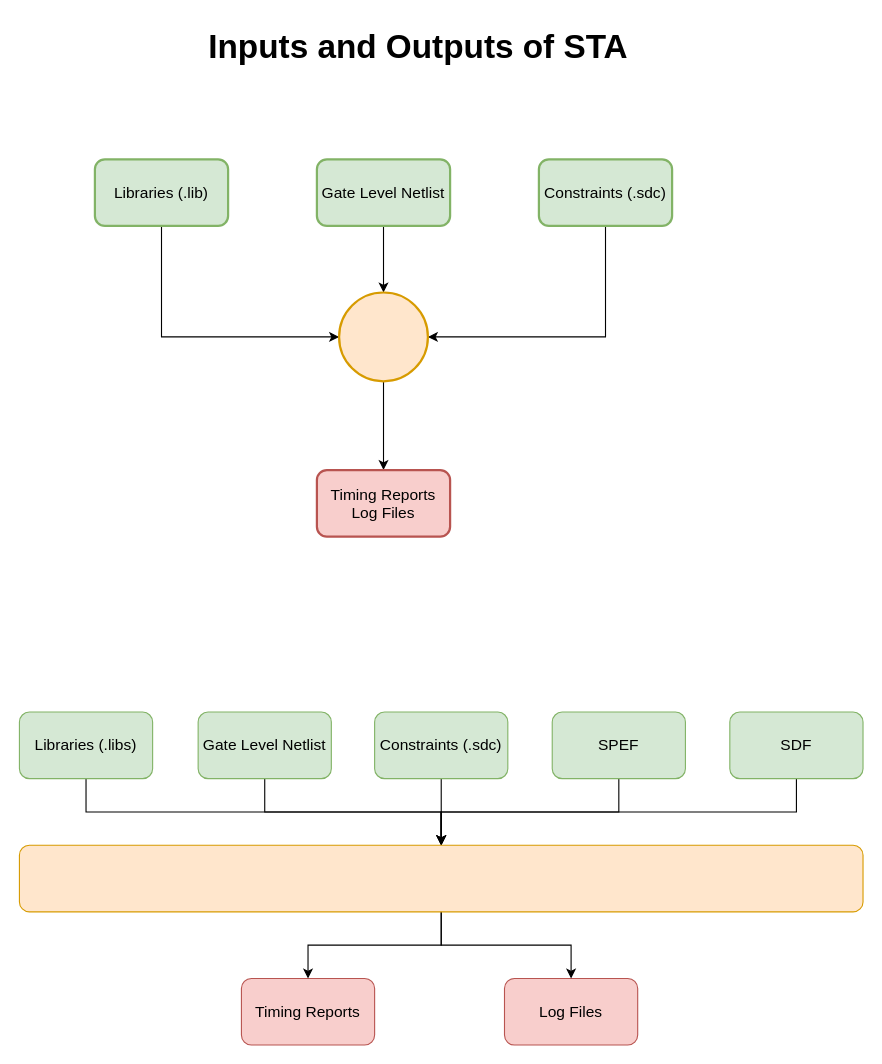
The diagram is 882 pixels wide and 1064 high, and some of its shapes have lost their labels. The centre of each missing label's shape, as x and y in pixels:
STA: point 382,336
Static Timing Analysis: point 440,878
